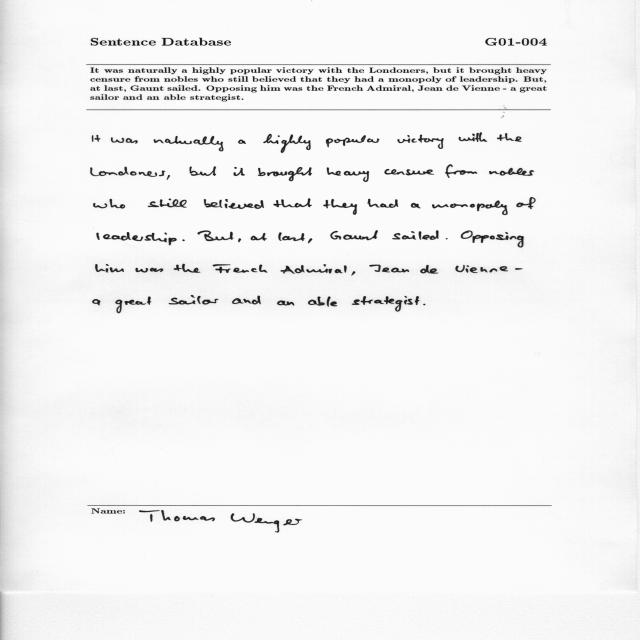word: (432, 200, 508, 215), (352, 296, 420, 312), (461, 231, 524, 248), (154, 136, 224, 151), (97, 232, 177, 245), (264, 134, 311, 153), (91, 166, 166, 177), (258, 167, 312, 181), (326, 135, 379, 148), (280, 264, 347, 274), (397, 135, 444, 149), (327, 167, 369, 182), (116, 297, 152, 314), (204, 199, 264, 209), (323, 199, 357, 215), (169, 295, 219, 305), (213, 264, 267, 273), (330, 231, 378, 241), (455, 265, 508, 273), (392, 231, 439, 240), (445, 165, 477, 178), (273, 198, 312, 208), (489, 168, 534, 176), (198, 231, 234, 241), (148, 199, 187, 208), (94, 199, 126, 209), (369, 265, 409, 273), (308, 296, 337, 307), (385, 169, 435, 175), (367, 199, 398, 208), (459, 133, 488, 142), (232, 296, 261, 305), (190, 166, 216, 176), (278, 232, 305, 241), (516, 197, 536, 209), (174, 264, 200, 273), (95, 264, 124, 272), (497, 133, 522, 142), (111, 137, 138, 144), (421, 265, 439, 274), (251, 233, 267, 241), (233, 167, 245, 176), (136, 268, 163, 272), (277, 301, 294, 306), (92, 135, 101, 142), (411, 203, 421, 208), (93, 299, 100, 306), (238, 140, 246, 144), (308, 239, 312, 244), (352, 271, 356, 276), (515, 268, 523, 270), (167, 175, 170, 180), (238, 239, 241, 243), (182, 240, 185, 242), (446, 238, 448, 240), (423, 304, 426, 305)
